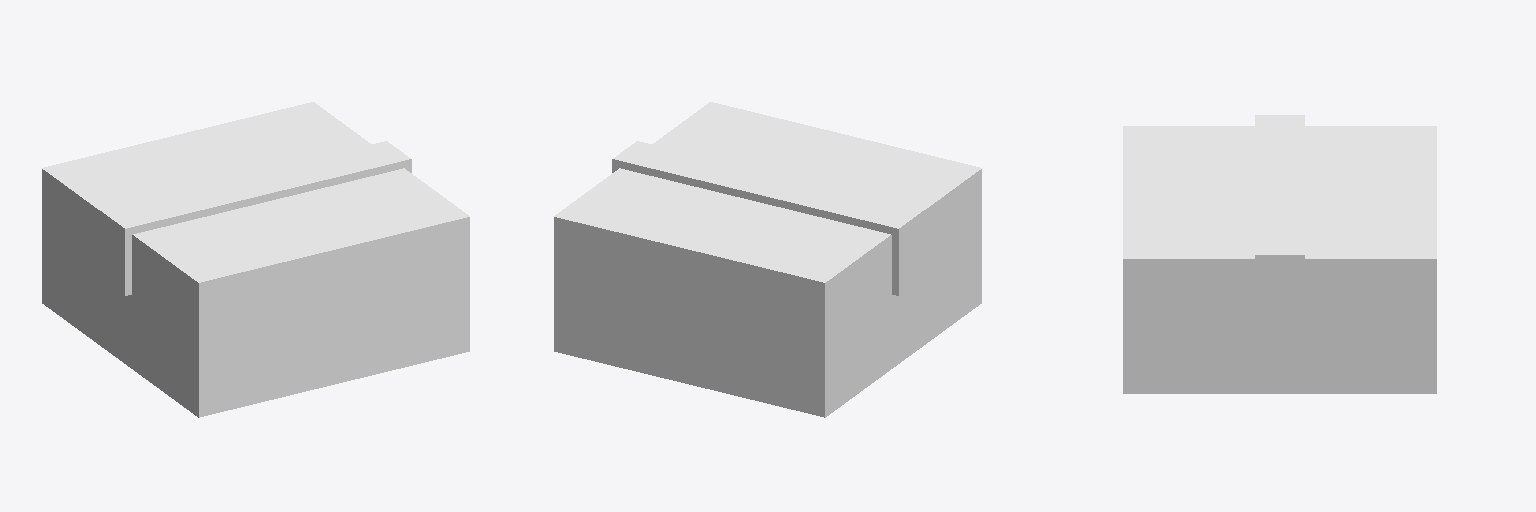
Rendered from targetbox.obj.
The picture shows the model from 3 angles: view 1: azimuth 30°, elevation 25°; view 2: azimuth 150°, elevation 25°; view 3: azimuth 270°, elevation 25°; orthographic projection.
Visible parts, largest first — view 1: object 1; view 2: object 1; view 3: object 1.
Part boxes in pixels (left/top/right/bottom): object 1: left=42, top=102, right=469, bottom=417; object 1: left=554, top=102, right=981, bottom=417; object 1: left=1123, top=115, right=1436, bottom=393.
Bounding box in the file's own units: 4 × 1.9 × 3.8.